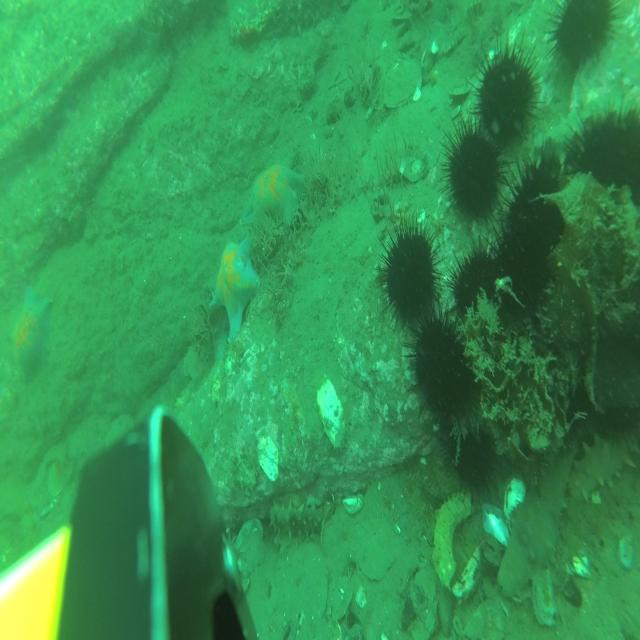echinus: (468, 31, 544, 161), (406, 299, 480, 425), (442, 114, 516, 230), (378, 211, 445, 336), (490, 213, 556, 337), (504, 146, 570, 270), (450, 234, 510, 346), (440, 412, 502, 503), (546, 0, 618, 72), (569, 103, 622, 197), (590, 365, 640, 459), (547, 366, 588, 442), (614, 103, 640, 217)
holothurian: (500, 446, 577, 603), (570, 429, 640, 507), (536, 92, 622, 151), (270, 498, 335, 541)
scallop: (383, 59, 422, 110), (235, 517, 266, 578), (106, 414, 136, 462)
starfish: (210, 232, 262, 343), (9, 284, 53, 386), (240, 162, 304, 228)
